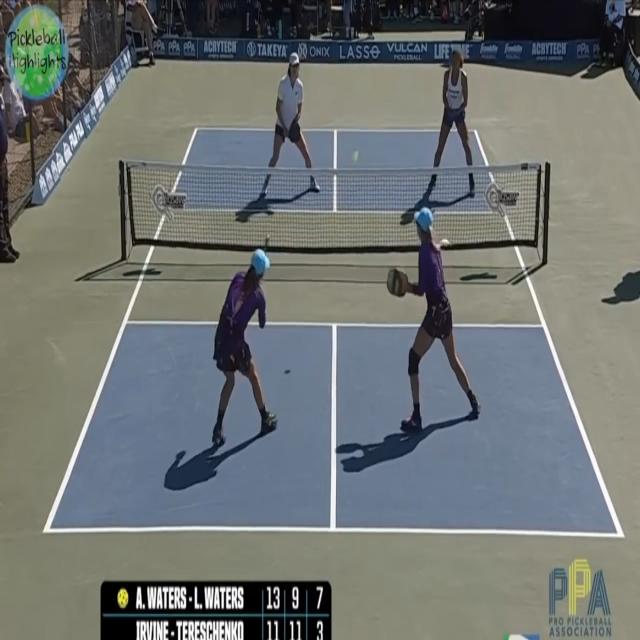Court: (48, 128, 620, 535)
ball: (348, 141, 367, 167)
